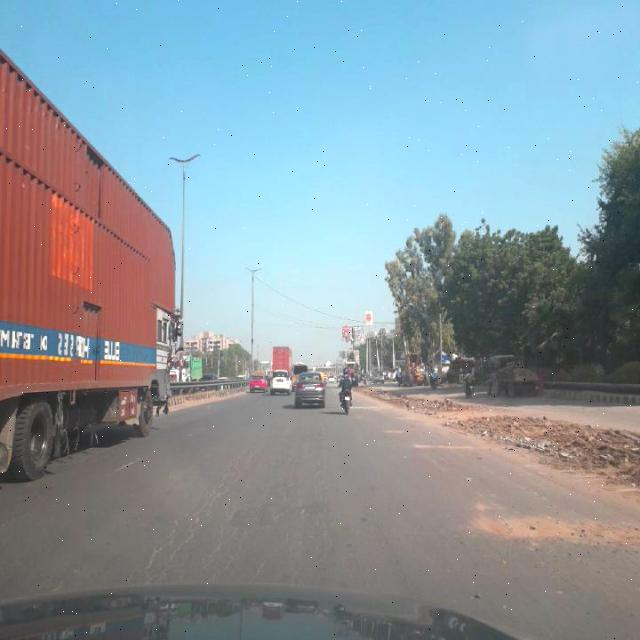D20: (128, 421, 347, 584)
